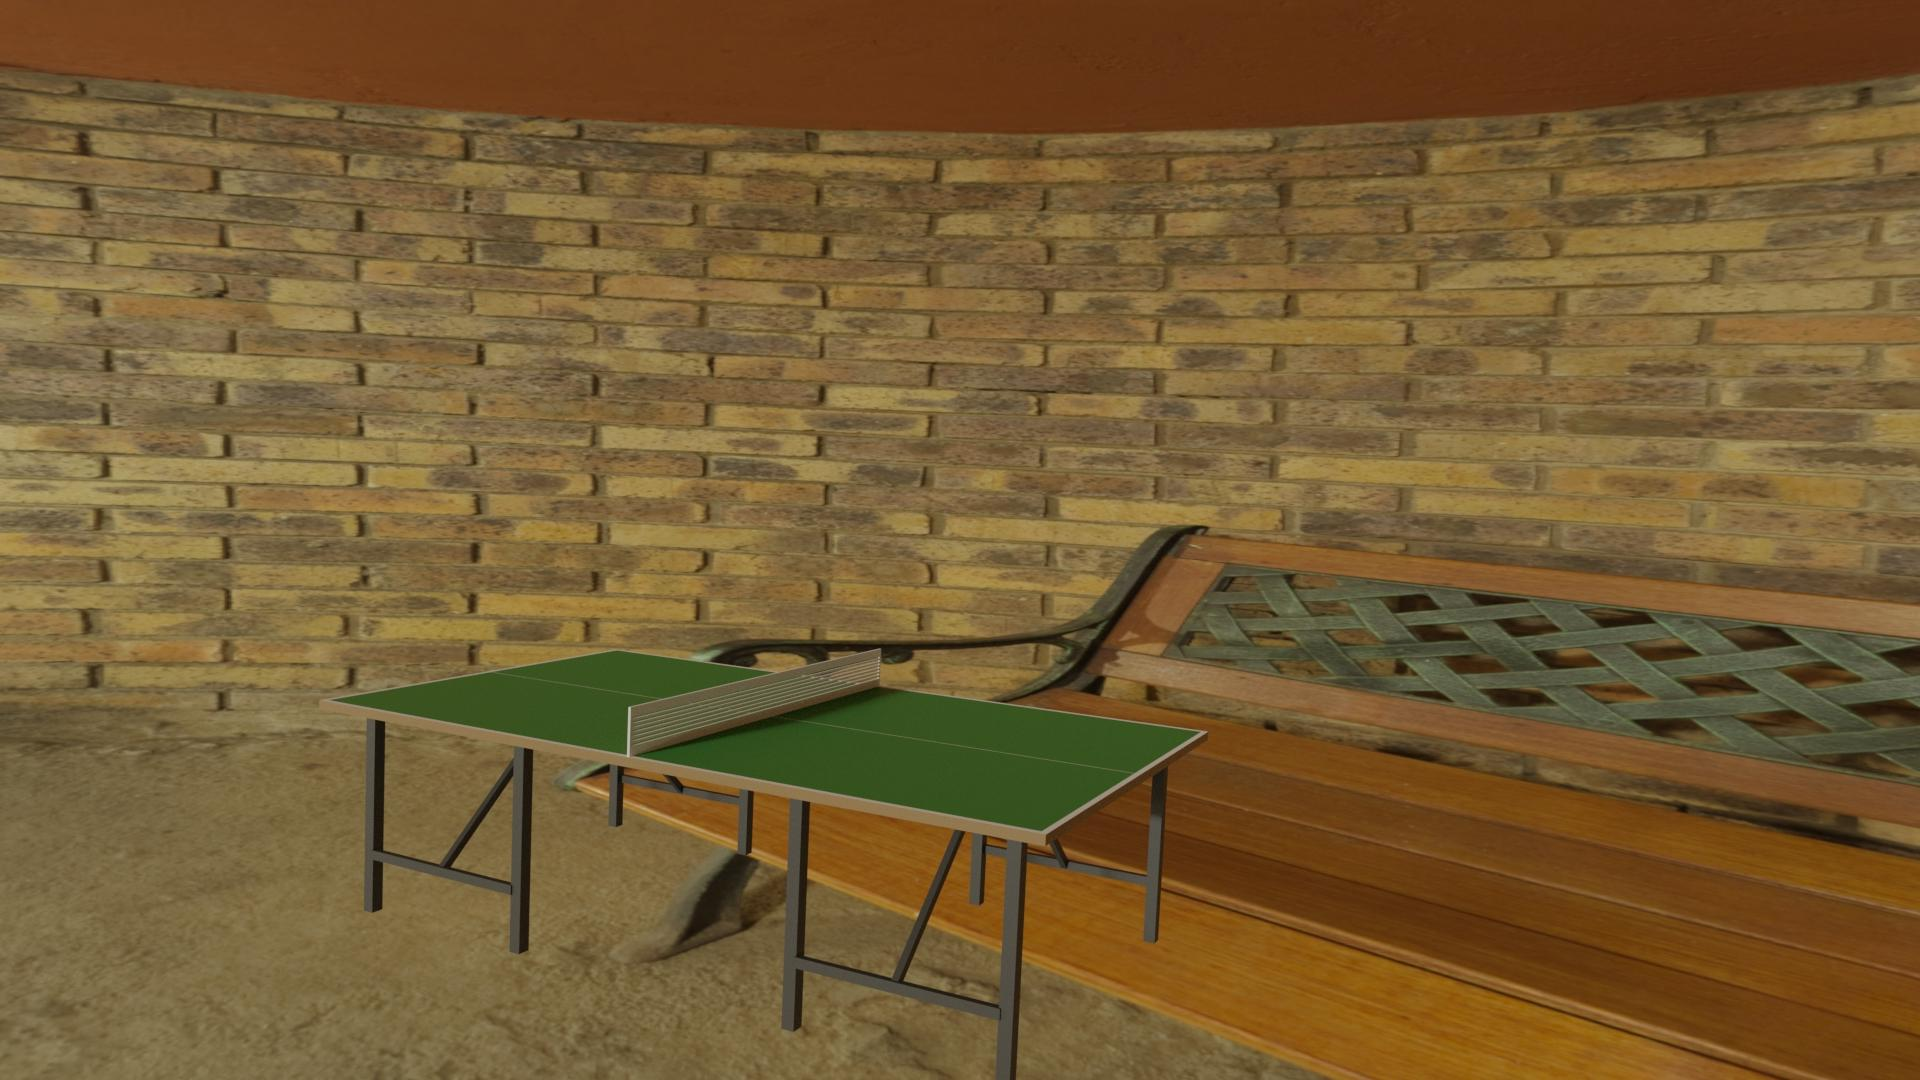table: (328, 650, 1201, 831)
